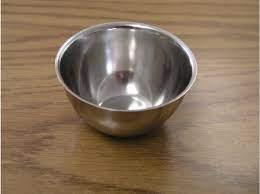Sponge Bowl: (55, 19, 200, 141)
